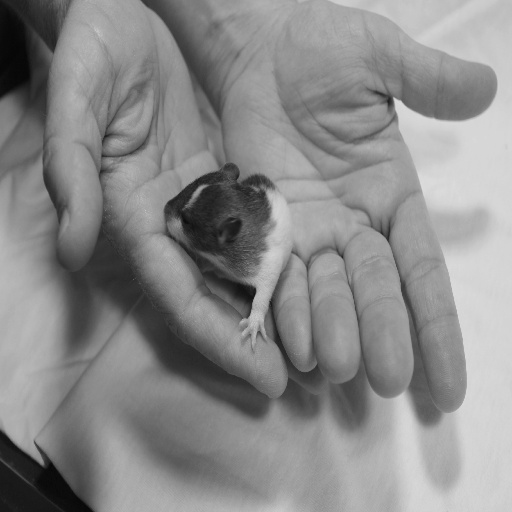hand: (217, 0, 498, 415), (42, 0, 331, 399)
